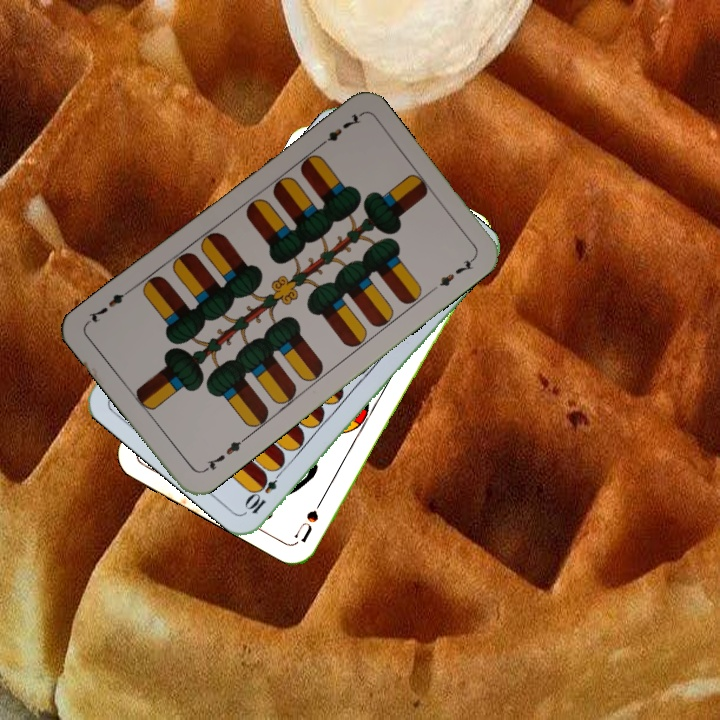E10: (242, 464, 286, 517)
E7: (199, 433, 249, 475), (313, 110, 364, 151)
SU: (290, 488, 330, 545)
